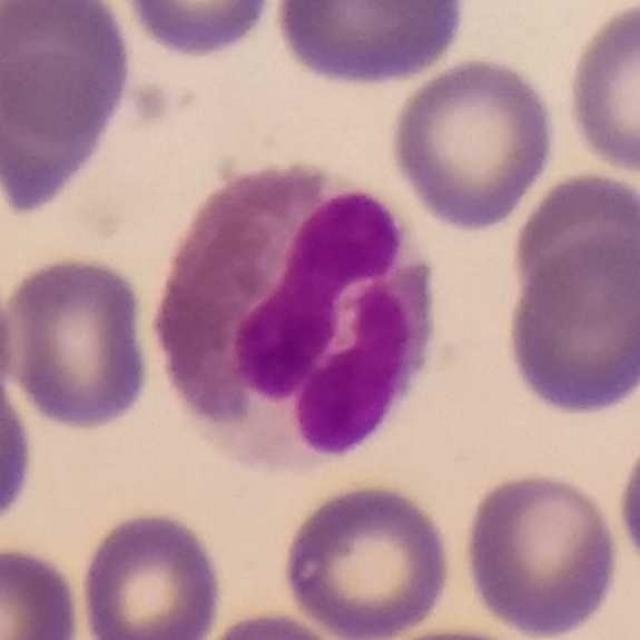eosino: (152, 162, 441, 482)
